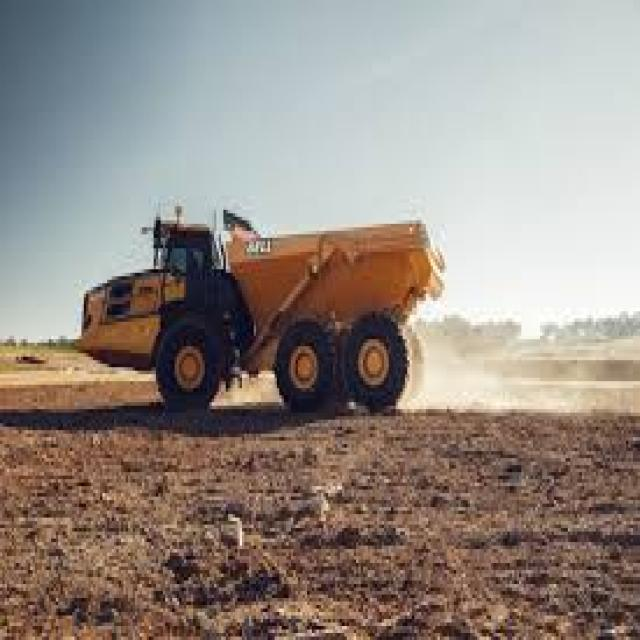dump_truck: (68, 189, 456, 444)
